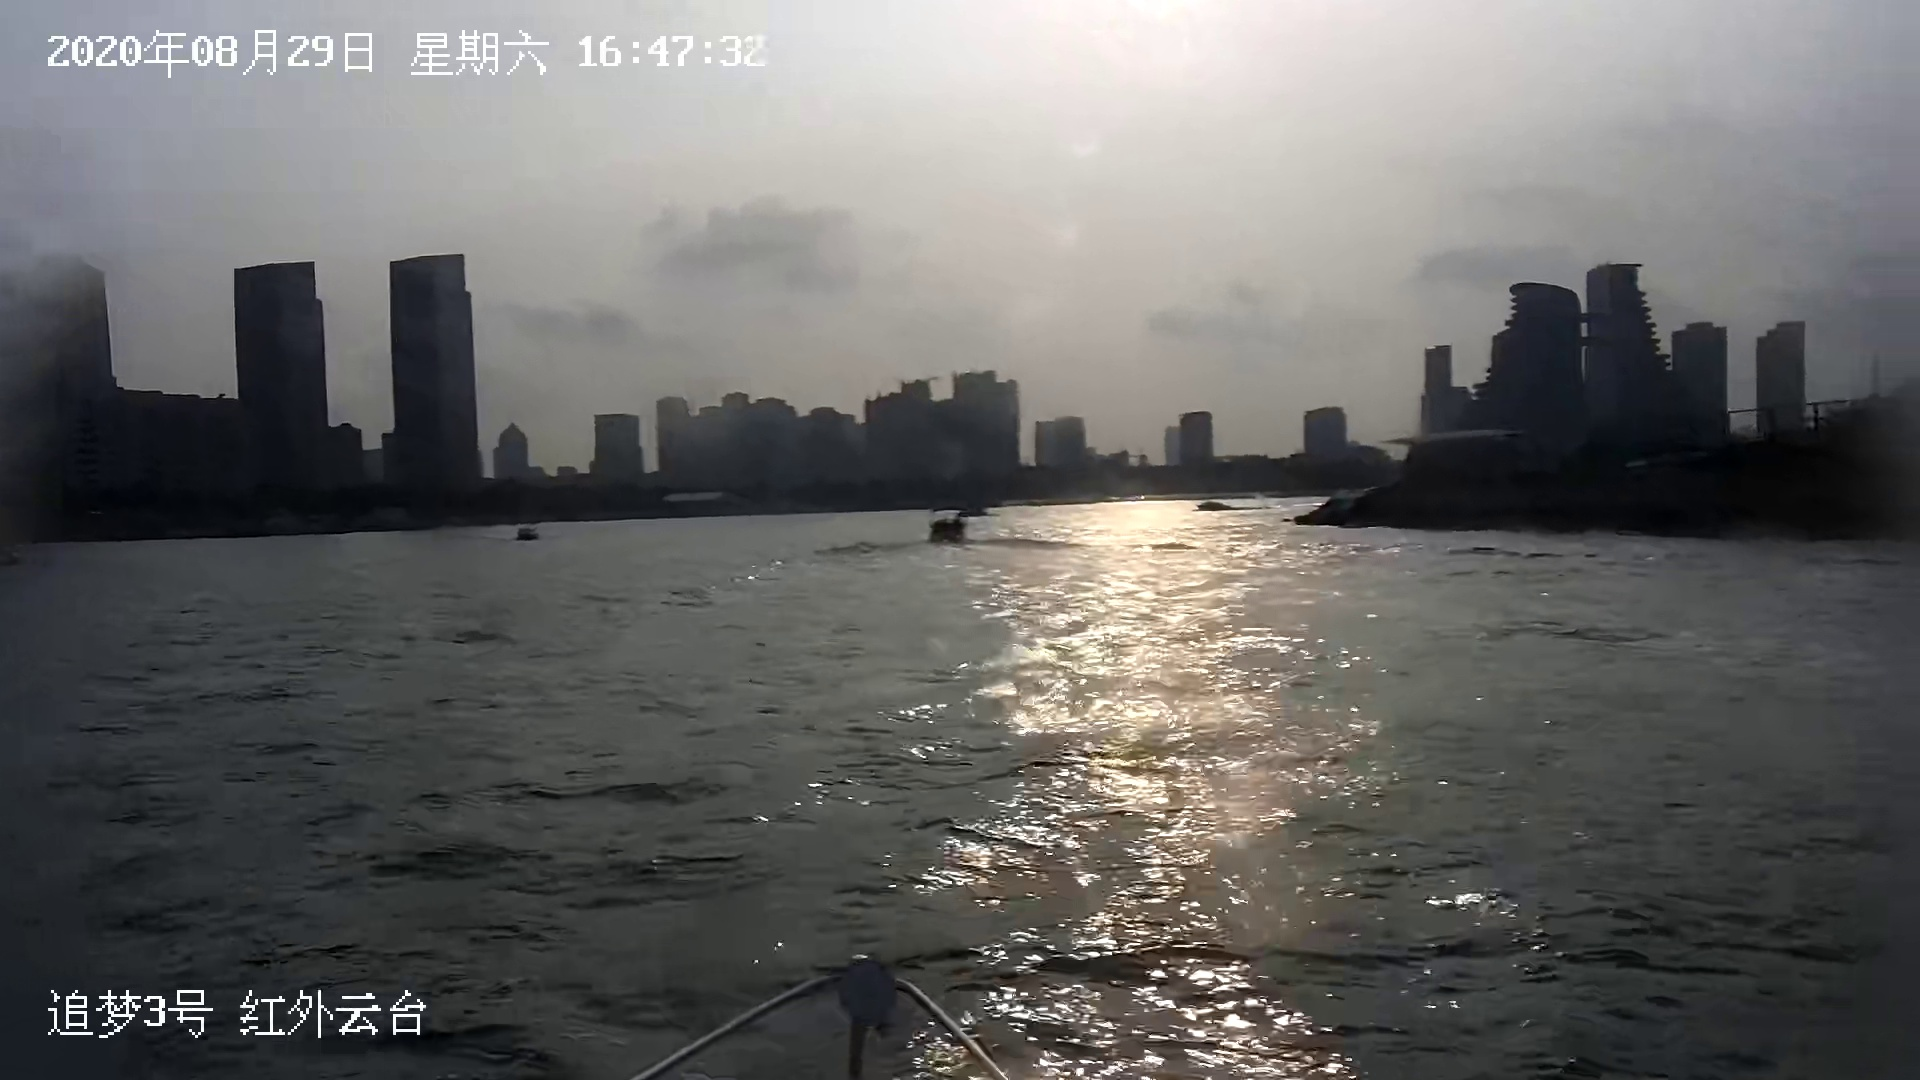barrier: (924, 502, 968, 543), (1197, 502, 1271, 510), (518, 526, 542, 546), (961, 506, 1000, 517)
coast: (5, 247, 1920, 549)
